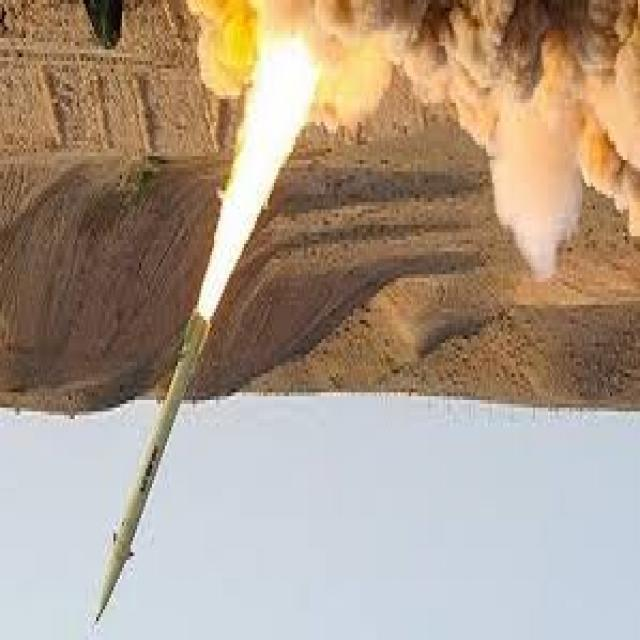missile: (95, 305, 209, 627)
